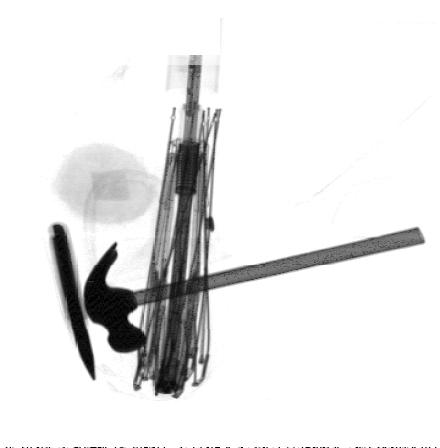Hammer: (84, 226, 427, 353)
Pliers: (48, 222, 95, 380)
